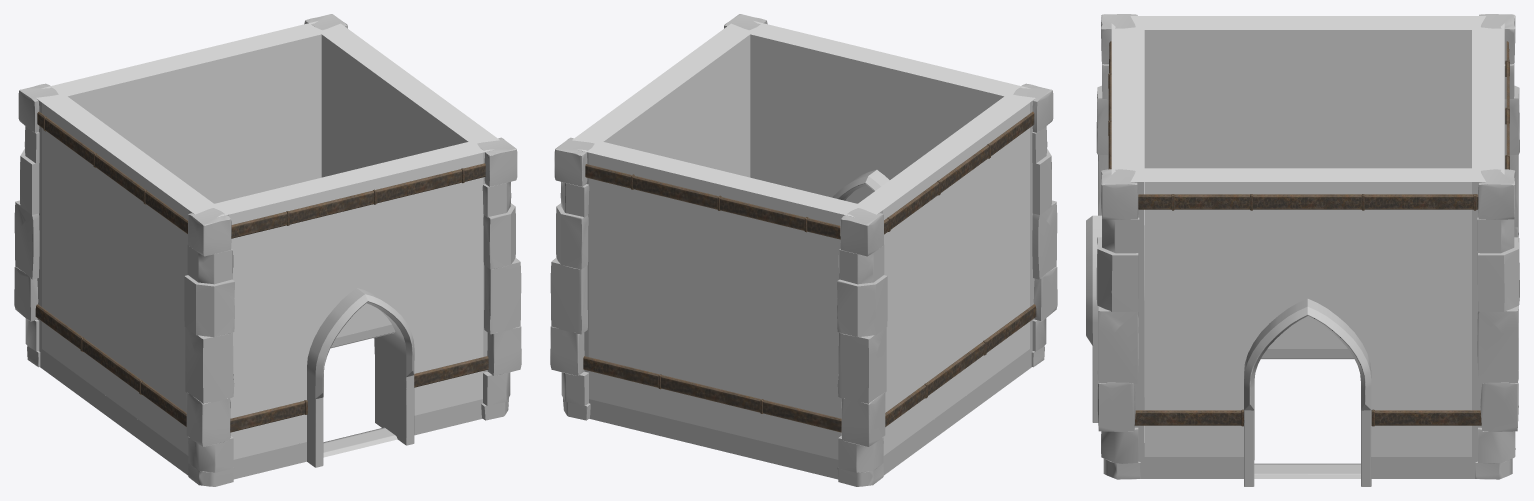
3 views of the same model, side by side, from view 1: azimuth 30°, elevation 25°; view 2: azimuth 150°, elevation 25°; view 3: azimuth 270°, elevation 25° (orthographic). The views are drawn at different scales.
Visible parts, largest first — view 1: SM_Dowdun_Tower_Room_12x12_02_LOD0; view 2: SM_Dowdun_Tower_Room_12x12_02_LOD0; view 3: SM_Dowdun_Tower_Room_12x12_02_LOD0.
Boxes of the visible parts, x1,y1,x2,y2 form: SM_Dowdun_Tower_Room_12x12_02_LOD0: (14,14,521,486); SM_Dowdun_Tower_Room_12x12_02_LOD0: (550,14,1057,486); SM_Dowdun_Tower_Room_12x12_02_LOD0: (1086,14,1519,486).
Bounding box in the file's own units: 13.08 × 10.01 × 13.25.
